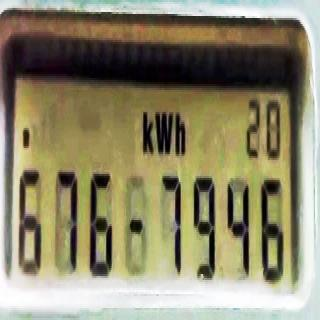-: (128, 211, 144, 239), (21, 124, 31, 154)
0: (264, 92, 281, 164)
2: (244, 90, 262, 164)
4: (226, 170, 252, 285)
6: (86, 158, 115, 291), (17, 162, 43, 284), (259, 170, 284, 286)
7: (56, 159, 80, 278), (162, 168, 184, 282)
9: (192, 170, 218, 290)
